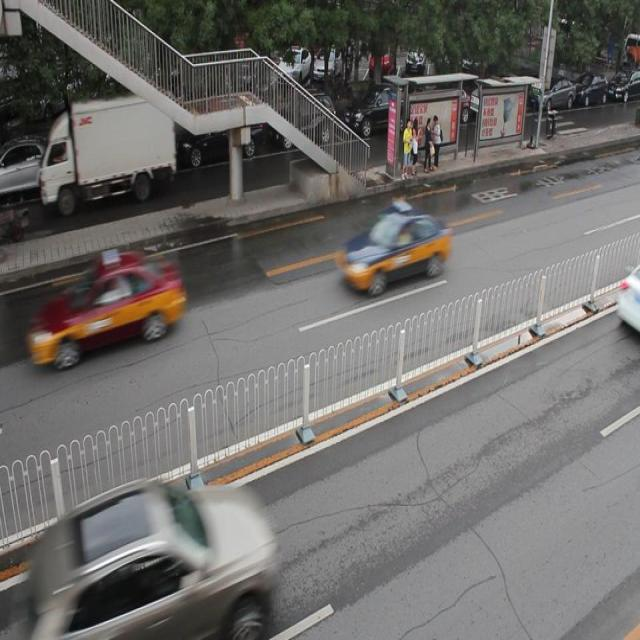bus: (39, 96, 184, 215)
car: (27, 479, 274, 640), (38, 256, 185, 364), (338, 202, 448, 298), (174, 106, 264, 168), (81, 121, 166, 186), (342, 79, 412, 139), (270, 89, 334, 150), (1, 137, 66, 197)
